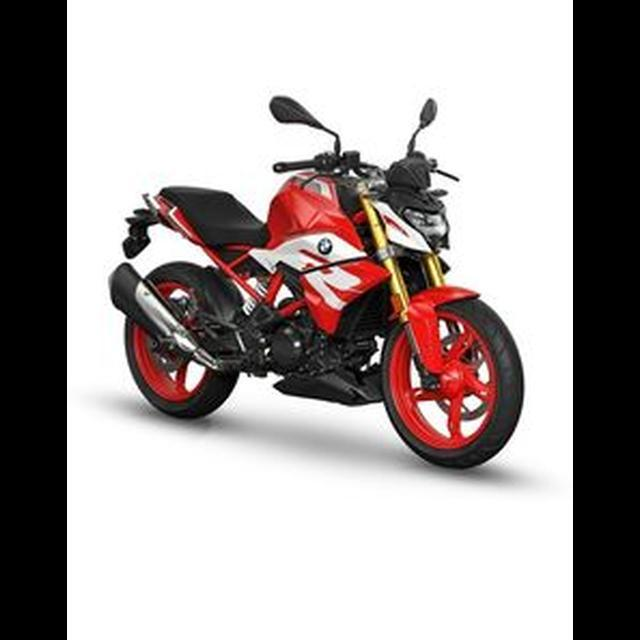motorcycle: (105, 89, 531, 479)
